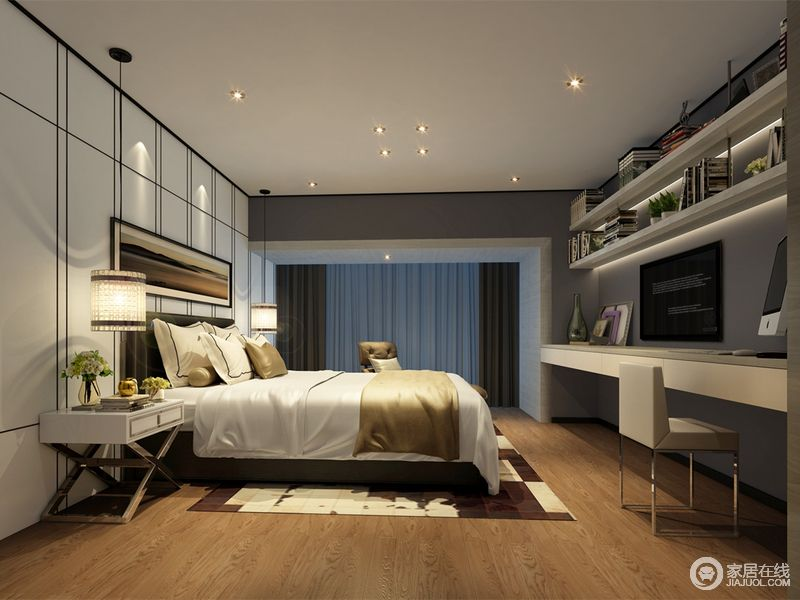床: (166, 365, 492, 489)
枕头: (151, 320, 282, 387)
灯: (88, 46, 149, 336), (245, 303, 281, 348), (372, 122, 397, 165), (416, 118, 437, 163), (568, 74, 597, 97), (228, 88, 250, 106), (510, 175, 529, 188), (383, 256, 400, 269), (303, 179, 321, 191)
